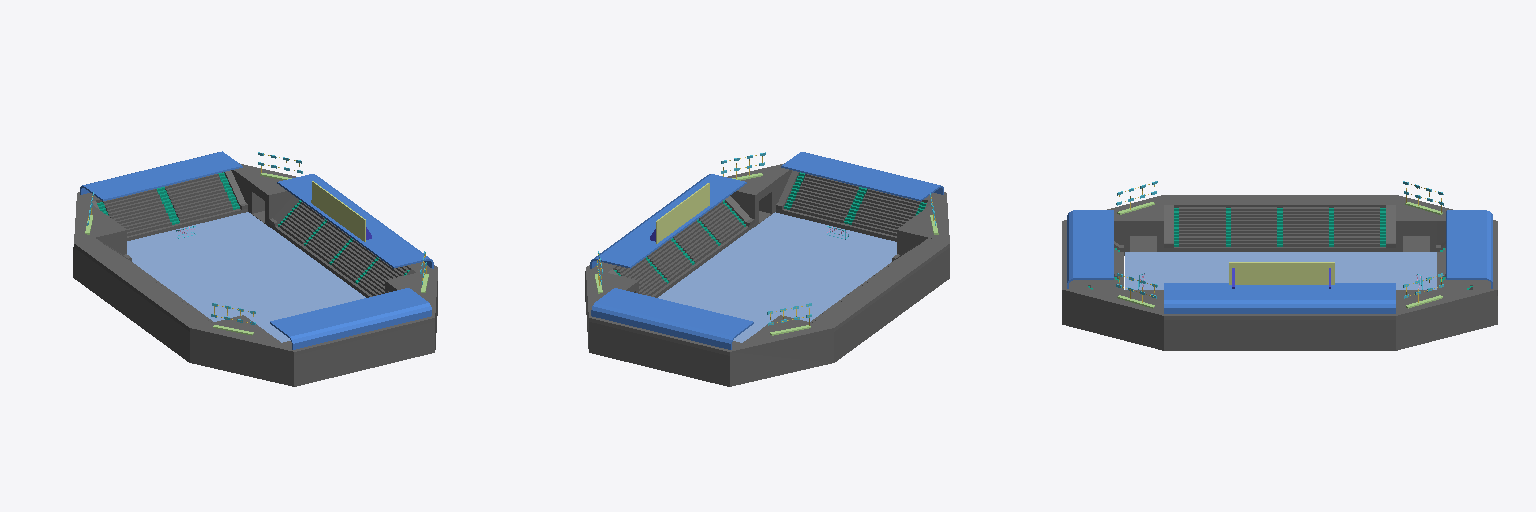
File: stadium3.obj
3 renders of one model, left to right at view 1: azimuth 30°, elevation 25°; view 2: azimuth 150°, elevation 25°; view 3: azimuth 270°, elevation 25°, orthographic.
Parts seen in each view (by area): view 1: Box158, Box220, Box214, Box239, Box221, Box211, Box247, Line048, Line052, Box219, Box223, Box238 (+8 smaller); view 2: Box158, Box220, Box229, Box247, Box223, Box211, Box239, Line047, Line046, Box215, Box221, Box238 (+8 smaller); view 3: Box218, Box158, Box211, Box220, Box219, Box215, Box239, Box247, Box238, Box221, Box223, Line051 (+6 smaller).
Boxes of the visible parts, <box> form: Box158: <box>127,212,365,342</box>; Box220: <box>73,238,211,362</box>; Box214: <box>283,316,434,386</box>; Box239: <box>270,288,431,349</box>; Box221: <box>190,315,294,386</box>; Box211: <box>277,174,433,268</box>; Box247: <box>80,151,242,200</box>; Line048: <box>165,174,232,222</box>; Line052: <box>102,189,171,235</box>; Box219: <box>231,163,295,226</box>; Box223: <box>74,193,126,254</box>; Box238: <box>311,181,365,241</box>; Box158: <box>658,212,896,342</box>; Box220: <box>812,238,949,362</box>; Box229: <box>589,316,740,386</box>; Box247: <box>591,288,753,349</box>; Box223: <box>730,315,833,386</box>; Box211: <box>590,174,746,268</box>; Box239: <box>781,152,943,201</box>; Line047: <box>790,174,858,222</box>; Line046: <box>852,189,921,235</box>; Box215: <box>727,163,791,226</box>; Box221: <box>897,193,949,254</box>; Box238: <box>656,183,709,243</box>; Box218: <box>1164,314,1395,350</box>; Box158: <box>1125,252,1436,289</box>; Box211: <box>1164,283,1395,313</box>; Box220: <box>1164,195,1395,251</box>; Box219: <box>1396,290,1497,350</box>; Box215: <box>1062,290,1163,350</box>; Box239: <box>1067,210,1113,288</box>; Box247: <box>1446,210,1492,288</box>; Box238: <box>1229,262,1334,284</box>; Box221: <box>1064,195,1163,255</box>; Box223: <box>1396,195,1495,251</box>; Line051: <box>1179,207,1225,246</box>.
Size of the model in its own units: 268 by 70.45 by 406.